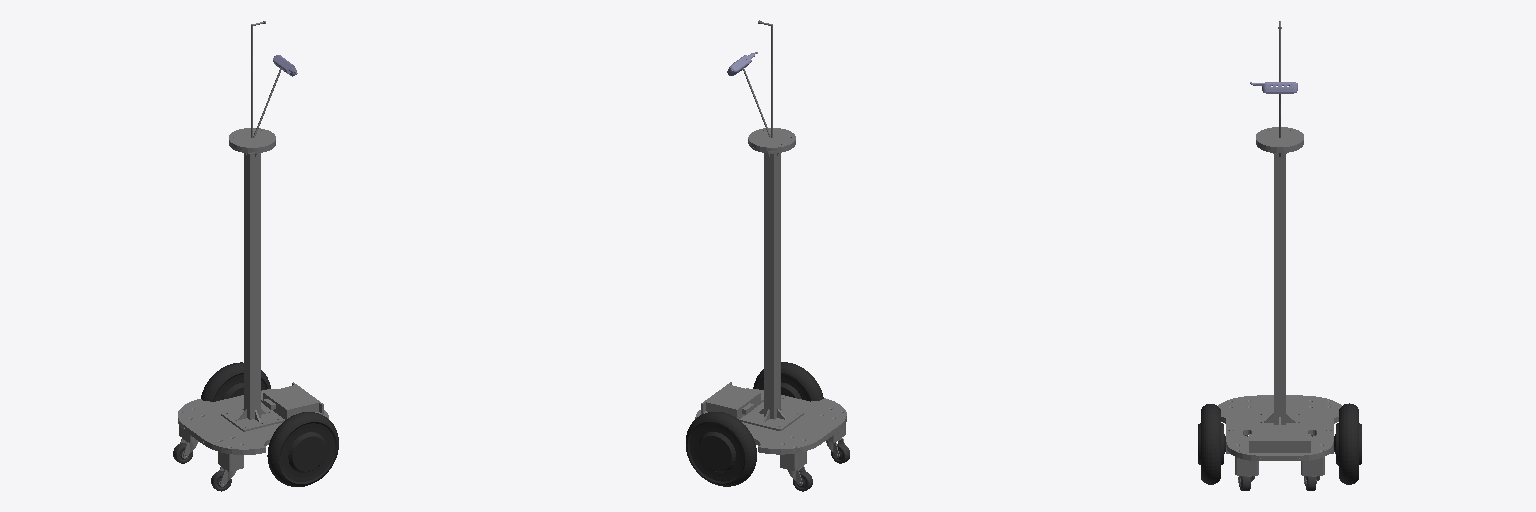
The robot description file, URDF, robot "nexa":
<?xml version="1.0" encoding="utf-8"?>
<!-- This URDF was automatically created by SolidWorks to URDF Exporter! Originally created by Stephen Brawner (brawner@gmail.com)
     Commit Version: 1.6.0-1-g15f4949  Build Version: 1.6.7594.29634
     For more information, please see http://wiki.ros.org/sw_urdf_exporter -->
<robot
  name="nexa">
  <link
    name="base_link">
    <inertial>
      <origin
        xyz="0.0233629429238116 4.22881594878133E-05 0.0485862192692521"
        rpy="0 0 0" />
      <mass
        value="2.67357451448379" />
      <inertia
        ixx="0.0838676214813811"
        ixy="-4.20361720258225E-06"
        ixz="0.00129491227389105"
        iyy="0.0952701211607136"
        iyz="1.6066275313901E-06"
        izz="0.0409475340600111" />
    </inertial>
    <visual>
      <origin
        xyz="0 0 0"
        rpy="0 0 0" />
      <geometry>
        <mesh
          filename="package://nexa/meshes/base_link.STL" />
      </geometry>
      <material
        name="">
        <color
          rgba="0.509803921568627 0.509803921568627 0.509803921568627 1" />
      </material>
    </visual>
    <collision>
      <origin
        xyz="0 0 0"
        rpy="0 0 0" />
      <geometry>
        <mesh
          filename="package://nexa/meshes/base_link.STL" />
      </geometry>
    </collision>
  </link>
  <link
    name="leftwheel_link">
    <inertial>
      <origin
        xyz="-1.74075753811564E-10 1.74083775172917E-10 0.000381565663131411"
        rpy="0 0 0" />
      <mass
        value="1.44920481477612" />
      <inertia
        ixx="0.00347079630181746"
        ixy="-5.8844939595754E-16"
        ixz="-1.29155431134988E-09"
        iyy="0.00347079630181747"
        iyz="1.29155395907396E-09"
        izz="0.00630183667634335" />
    </inertial>
    <visual>
      <origin
        xyz="0 0 0"
        rpy="0 0 0" />
      <geometry>
        <mesh
          filename="package://nexa/meshes/leftwheel_link.STL" />
      </geometry>
      <material
        name="">
        <color
          rgba="0.215686274509804 0.215686274509804 0.215686274509804 1" />
      </material>
    </visual>
    <collision>
      <origin
        xyz="0 0 0"
        rpy="0 0 0" />
      <geometry>
        <mesh
          filename="package://nexa/meshes/leftwheel_link.STL" />
      </geometry>
    </collision>
  </link>
  <joint
    name="leftwheel_joint"
    type="continuous">
    <origin
      xyz="0.0540389524650898 0.169779999524495 -0.0149989847207889"
      rpy="1.5707963267949 0 0" />
    <parent
      link="base_link" />
    <child
      link="leftwheel_link" />
    <axis
      xyz="0 0 0.999999999999792" />
  </joint>
  <link
    name="rightwheel_link">
    <inertial>
      <origin
        xyz="1.74075198700052E-10 -1.74083469861586E-10 -0.000381565663131717"
        rpy="0 0 0" />
      <mass
        value="1.44920481477613" />
      <inertia
        ixx="0.00347079630181749"
        ixy="-5.88843528628314E-16"
        ixz="-1.29155425553129E-09"
        iyy="0.00347079630181749"
        iyz="1.2915540535382E-09"
        izz="0.00630183667634338" />
    </inertial>
    <visual>
      <origin
        xyz="0 0 0"
        rpy="0 0 0" />
      <geometry>
        <mesh
          filename="package://nexa/meshes/rightwheel_link.STL" />
      </geometry>
      <material
        name="">
        <color
          rgba="0.215686274509804 0.215686274509804 0.215686274509804 1" />
      </material>
    </visual>
    <collision>
      <origin
        xyz="0 0 0"
        rpy="0 0 0" />
      <geometry>
        <mesh
          filename="package://nexa/meshes/rightwheel_link.STL" />
      </geometry>
    </collision>
  </link>
  <joint
    name="rightwheel_joint"
    type="continuous">
    <origin
      xyz="0.0540387975537798 -0.169780000237316 -0.0149988298094792"
      rpy="1.5707963267949 0 0" />
    <parent
      link="base_link" />
    <child
      link="rightwheel_link" />
    <axis
      xyz="0 0 0.999999999999792" />
  </joint>
  <link
    name="casterwheelmount_link">
    <inertial>
      <origin
        xyz="0.00187352191273216 0.0129405492524937 -0.0103000078506701"
        rpy="0 0 0" />
      <mass
        value="0.0102706017023182" />
      <inertia
        ixx="3.93968493623888E-06"
        ixy="-2.8232800941337E-07"
        ixz="5.63131676132563E-08"
        iyy="3.432191688351E-06"
        iyz="1.42222659679423E-06"
        izz="3.85767367428349E-06" />
    </inertial>
    <visual>
      <origin
        xyz="0 0 0"
        rpy="0 0 0" />
      <geometry>
        <mesh
          filename="package://nexa/meshes/casterwheelmount_link.STL" />
      </geometry>
      <material
        name="">
        <color
          rgba="0.509803921568627 0.509803921568627 0.509803921568627 1" />
      </material>
    </visual>
    <collision>
      <origin
        xyz="0 0 0"
        rpy="0 0 0" />
      <geometry>
        <mesh
          filename="package://nexa/meshes/casterwheelmount_link.STL" />
      </geometry>
    </collision>
  </link>
  <joint
    name="casterwheelmount_joint"
    type="continuous">
    <origin
      xyz="0.139639576281008 0.0791060227155972 -0.051842999999996"
      rpy="-1.5707963267949 0 -1.5707963267949" />
    <parent
      link="base_link" />
    <child
      link="casterwheelmount_link" />
    <axis
      xyz="0 -1 0" />
  </joint>
  <link
    name="casterwheel_link">
    <inertial>
      <origin
        xyz="1.33226762955019E-15 1.23512311489549E-15 -0.0112773964520611"
        rpy="0 0 0" />
      <mass
        value="0.0399331188999233" />
      <inertia
        ixx="7.77541411629872E-06"
        ixy="-1.01833774330127E-21"
        ixz="-2.72426971660664E-19"
        iyy="7.77541411629871E-06"
        iyz="4.13954478132233E-19"
        izz="1.27535117768465E-05" />
    </inertial>
    <visual>
      <origin
        xyz="0 0 0"
        rpy="0 0 0" />
      <geometry>
        <mesh
          filename="package://nexa/meshes/casterwheel_link.STL" />
      </geometry>
      <material
        name="">
        <color
          rgba="0.270588235294118 0.270588235294118 0.270588235294118 1" />
      </material>
    </visual>
    <collision>
      <origin
        xyz="0 0 0"
        rpy="0 0 0" />
      <geometry>
        <mesh
          filename="package://nexa/meshes/casterwheel_link.STL" />
      </geometry>
    </collision>
  </link>
  <joint
    name="casterwheel_joint"
    type="continuous">
    <origin
      xyz="0.0151109163570423 0.0349719999999999 -0.0235537261563978"
      rpy="0 -1.41616610057807 3.14159265358979" />
    <parent
      link="casterwheelmount_link" />
    <child
      link="casterwheel_link" />
    <axis
      xyz="-3.74938274523284E-05 0 -0.999999999297106" />
  </joint>
  <link
    name="casterwheelmount1_link">
    <inertial>
      <origin
        xyz="-0.0101545114856474 0.00254678088783966 0.0129405492213775"
        rpy="0 0 0" />
      <mass
        value="0.0102706060663648" />
      <inertia
        ixx="3.86541891392595E-06"
        ixy="6.12075400190165E-08"
        ixz="1.40058301400974E-06"
        iyy="3.93194090481684E-06"
        iyz="-3.75240720638479E-07"
        izz="3.43219229056267E-06" />
    </inertial>
    <visual>
      <origin
        xyz="0 0 0"
        rpy="0 0 0" />
      <geometry>
        <mesh
          filename="package://nexa/meshes/casterwheelmount1_link.STL" />
      </geometry>
      <material
        name="">
        <color
          rgba="0.509803921568627 0.509803921568627 0.509803921568627 1" />
      </material>
    </visual>
    <collision>
      <origin
        xyz="0 0 0"
        rpy="0 0 0" />
      <geometry>
        <mesh
          filename="package://nexa/meshes/casterwheelmount1_link.STL" />
      </geometry>
    </collision>
  </link>
  <joint
    name="casterwheelmount1_joint"
    type="continuous">
    <origin
      xyz="0.139639576281007 -0.0808939772844029 -0.051842999999996"
      rpy="-3.14159265358979 0 0" />
    <parent
      link="base_link" />
    <child
      link="casterwheelmount1_link" />
    <axis
      xyz="0 0 -1" />
  </joint>
  <link
    name="casterwheel1_link">
    <inertial>
      <origin
        xyz="-0.00246586444429442 -1.09634523681734E-15 -0.0110045074073896"
        rpy="0 0 0" />
      <mass
        value="0.0399331188999234" />
      <inertia
        ixx="8.0134180379355E-06"
        ixy="-6.57097464824199E-20"
        ixz="1.06214918857322E-06"
        iyy="7.77541411629872E-06"
        iyz="-2.92153038680237E-19"
        izz="1.25155078552097E-05" />
    </inertial>
    <visual>
      <origin
        xyz="0 0 0"
        rpy="0 0 0" />
      <geometry>
        <mesh
          filename="package://nexa/meshes/casterwheel1_link.STL" />
      </geometry>
      <material
        name="">
        <color
          rgba="0.270588235294118 0.270588235294118 0.270588235294118 1" />
      </material>
    </visual>
    <collision>
      <origin
        xyz="0 0 0"
        rpy="0 0 0" />
      <geometry>
        <mesh
          filename="package://nexa/meshes/casterwheel1_link.STL" />
      </geometry>
    </collision>
  </link>
  <joint
    name="casterwheel1_joint"
    type="continuous">
    <origin
      xyz="-0.0225090715658005 0.0166270714873566 0.0349720000000002"
      rpy="-1.5707963267949 0 0" />
    <parent
      link="casterwheelmount1_link" />
    <child
      link="casterwheel1_link" />
    <axis
      xyz="0.218655472012234 0 0.975802123670115" />
  </joint>
  <link
    name="casterwheelmount2_link">
    <inertial>
      <origin
        xyz="-0.0104656615937944 0.000264812566949602 0.0129405496800931"
        rpy="0 0 0" />
      <mass
        value="0.0102706060928633" />
      <inertia
        ixx="3.84248026188763E-06"
        ixy="4.11615522049579E-08"
        ixz="1.44874042580228E-06"
        iyy="3.95487969647682E-06"
        iyz="-5.99155602306657E-08"
        izz="3.43219234854318E-06" />
    </inertial>
    <visual>
      <origin
        xyz="0 0 0"
        rpy="0 0 0" />
      <geometry>
        <mesh
          filename="package://nexa/meshes/casterwheelmount2_link.STL" />
      </geometry>
      <material
        name="">
        <color
          rgba="0.509803921568627 0.509803921568627 0.509803921568627 1" />
      </material>
    </visual>
    <collision>
      <origin
        xyz="0 0 0"
        rpy="0 0 0" />
      <geometry>
        <mesh
          filename="package://nexa/meshes/casterwheelmount2_link.STL" />
      </geometry>
    </collision>
  </link>
  <joint
    name="casterwheelmount2_joint"
    type="continuous">
    <origin
      xyz="-0.115360423718992 0.0971060227155969 -0.052842999999998"
      rpy="3.14159265358979 0 0" />
    <parent
      link="base_link" />
    <child
      link="casterwheelmount2_link" />
    <axis
      xyz="0 0 -1" />
  </joint>
  <link
    name="casterwheel2_link">
    <inertial>
      <origin
        xyz="0 1.11022302462516E-15 -0.0112773964520597"
        rpy="0 0 0" />
      <mass
        value="0.0399331188999233" />
      <inertia
        ixx="7.77541411629873E-06"
        ixy="-2.72948711563285E-22"
        ixz="-3.84041109193569E-19"
        iyy="7.77541411629872E-06"
        iyz="3.01712944588664E-19"
        izz="1.27535117768465E-05" />
    </inertial>
    <visual>
      <origin
        xyz="0 0 0"
        rpy="0 0 0" />
      <geometry>
        <mesh
          filename="package://nexa/meshes/casterwheel2_link.STL" />
      </geometry>
      <material
        name="">
        <color
          rgba="0.270588235294118 0.270588235294118 0.270588235294118 1" />
      </material>
    </visual>
    <collision>
      <origin
        xyz="0 0 0"
        rpy="0 0 0" />
      <geometry>
        <mesh
          filename="package://nexa/meshes/casterwheel2_link.STL" />
      </geometry>
    </collision>
  </link>
  <joint
    name="casterwheel2_joint"
    type="continuous">
    <origin
      xyz="-0.0256000000000002 0.0113030000000002 0.0349719999999999"
      rpy="-1.5707963267949 0 0" />
    <parent
      link="casterwheelmount2_link" />
    <child
      link="casterwheel2_link" />
    <axis
      xyz="0 0 1" />
  </joint>
  <link
    name="casterwheelmount3_link">
    <inertial>
      <origin
        xyz="-0.010340494088649 -0.00163533682142492 0.0129405509142809"
        rpy="0 0 0" />
      <mass
        value="0.0102706136475918" />
      <inertia
        ixx="3.83150337395354E-06"
        ixy="1.84372120086148E-08"
        ixz="1.43562765937134E-06"
        iyy="3.96585848591721E-06"
        iyz="2.03502642139208E-07"
        izz="3.43219311730015E-06" />
    </inertial>
    <visual>
      <origin
        xyz="0 0 0"
        rpy="0 0 0" />
      <geometry>
        <mesh
          filename="package://nexa/meshes/casterwheelmount3_link.STL" />
      </geometry>
      <material
        name="">
        <color
          rgba="0.509803921568627 0.509803921568627 0.509803921568627 1" />
      </material>
    </visual>
    <collision>
      <origin
        xyz="0 0 0"
        rpy="0 0 0" />
      <geometry>
        <mesh
          filename="package://nexa/meshes/casterwheelmount3_link.STL" />
      </geometry>
    </collision>
  </link>
  <joint
    name="casterwheelmount3_link"
    type="continuous">
    <origin
      xyz="-0.115360423718995 -0.0988939772844037 -0.052842999999996"
      rpy="3.14159265358979 0 0" />
    <parent
      link="base_link" />
    <child
      link="casterwheelmount3_link" />
    <axis
      xyz="0 0 -1" />
  </joint>
  <link
    name="casterwheel3_link">
    <inertial>
      <origin
        xyz="0.00204280486025432 7.49400541621981E-16 -0.0110908349117569"
        rpy="0 0 0" />
      <mass
        value="0.0399331188999233" />
      <inertia
        ixx="7.93875672263076E-06"
        ixy="1.9998661676797E-20"
        ixz="-8.8682277790206E-07"
        iyy="7.77541411629873E-06"
        iyz="-7.49859329312308E-20"
        izz="1.25901691705145E-05" />
    </inertial>
    <visual>
      <origin
        xyz="0 0 0"
        rpy="0 0 0" />
      <geometry>
        <mesh
          filename="package://nexa/meshes/casterwheel3_link.STL" />
      </geometry>
      <material
        name="">
        <color
          rgba="0.270588235294118 0.270588235294118 0.270588235294118 1" />
      </material>
    </visual>
    <collision>
      <origin
        xyz="0 0 0"
        rpy="0 0 0" />
      <geometry>
        <mesh
          filename="package://nexa/meshes/casterwheel3_link.STL" />
      </geometry>
    </collision>
  </link>
  <joint
    name="casterwheel3_joint"
    type="continuous">
    <origin
      xyz="-0.0272239429004355 0.0064787917047735 0.0349719999999999"
      rpy="-1.5707963267949 0 0" />
    <parent
      link="casterwheelmount3_link" />
    <child
      link="casterwheel3_link" />
    <axis
      xyz="-0.18114153110955 0 0.983457038058749" />
  </joint>
  <link
    name="camer_Link">
    <inertial>
      <origin
        xyz="0.0014858590321436 0.0183400588332211 -7.88564831766259E-08"
        rpy="0 0 0" />
      <mass
        value="0.123421651539353" />
      <inertia
        ixx="0.000429899634243806"
        ixy="-2.33350789116604E-05"
        ixz="5.60927268320891E-11"
        iyy="0.000212016762319961"
        iyz="1.68959859120517E-09"
        izz="0.000438998679665635" />
    </inertial>
    <visual>
      <origin
        xyz="0 0 0"
        rpy="0 0 0" />
      <geometry>
        <mesh
          filename="package://nexa/meshes/camer_Link.STL" />
      </geometry>
      <material
        name="">
        <color
          rgba="0.509803921568627 0.509803921568627 0.509803921568627 1" />
      </material>
    </visual>
    <collision>
      <origin
        xyz="0 0 0"
        rpy="0 0 0" />
      <geometry>
        <mesh
          filename="package://nexa/meshes/camer_Link.STL" />
      </geometry>
    </collision>
  </link>
  <joint
    name="camer_joint"
    type="fixed">
    <origin
      xyz="0.00431397405279732 0 0.783119999523163"
      rpy="1.5707963267949 0 0" />
    <parent
      link="base_link" />
    <child
      link="camer_Link" />
    <axis
      xyz="0 0 0" />
  </joint>
  <link
    name="realsense_Link">
    <inertial>
      <origin
        xyz="0.0102742584795974 0.00711896653540789 0.000871321821130366"
        rpy="0 0 0" />
      <mass
        value="0.0332748943180587" />
      <inertia
        ixx="2.57397368671904E-05"
        ixy="1.19148398558562E-08"
        ixz="2.83984493526265E-07"
        iyy="2.57224986374103E-05"
        iyz="-3.83724140917947E-07"
        izz="3.2006669857039E-06" />
    </inertial>
    <visual>
      <origin
        xyz="0 0 0"
        rpy="0 0 0" />
      <geometry>
        <mesh
          filename="package://nexa/meshes/realsense_Link.STL" />
      </geometry>
      <material
        name="">
        <color
          rgba="0.56078431372549 0.56078431372549 0.686274509803922 1" />
      </material>
    </visual>
    <collision>
      <origin
        xyz="0 0 0"
        rpy="0 0 0" />
      <geometry>
        <mesh
          filename="package://nexa/meshes/realsense_Link.STL" />
      </geometry>
    </collision>
  </link>
  <joint
    name="realsense_joint"
    type="fixed">
    <origin
      xyz="0.083403701772902 0.182836639605286 0"
      rpy="0 0 0" />
    <parent
      link="camer_Link" />
    <child
      link="realsense_Link" />
    <axis
      xyz="0 0 0" />
  </joint>
  <link
    name="cameratop_Link">
    <inertial>
      <origin
        xyz="-0.00501711981331032 -1.07127451966994 5.50848912026225E-05"
        rpy="0 0 0" />
      <mass
        value="5.9294953875902" />
      <inertia
        ixx="0.288388098161001"
        ixy="0.00413930161226115"
        ixz="-6.07274589378271E-05"
        iyy="0.138230832699961"
        iyz="2.09008782504397E-05"
        izz="0.226009248166915" />
    </inertial>
    <visual>
      <origin
        xyz="0 0 0"
        rpy="0 0 0" />
      <geometry>
        <mesh
          filename="package://nexa/meshes/cameratop_Link.STL" />
      </geometry>
      <material
        name="">
        <color
          rgba="1 1 1 1" />
      </material>
    </visual>
    <collision>
      <origin
        xyz="0 0 0"
        rpy="0 0 0" />
      <geometry>
        <mesh
          filename="package://nexa/meshes/cameratop_Link.STL" />
      </geometry>
    </collision>
  </link>
  <joint
    name="cameratop_joint"
    type="fixed">
    <origin
      xyz="0.0379819969671267 0.322068596376853 0"
      rpy="0 0 0" />
    <parent
      link="camer_Link" />
    <child
      link="cameratop_Link" />
    <axis
      xyz="0 0 0" />
  </joint>
</robot>

--- Render facts (derived) ---
Views: 3 orthographic renders of the robot side by side, from view 1: azimuth 30°, elevation 25°; view 2: azimuth 150°, elevation 25°; view 3: azimuth 270°, elevation 25°.
Robot: nexa — 14 links, 13 joints (10 continuous, 3 fixed); root link base_link; default pose: all joints at 0.
Links seen in each view (by area): view 1: base_link, rightwheel_link, leftwheel_link, camer_Link; view 2: base_link, leftwheel_link, rightwheel_link, camer_Link; view 3: base_link, leftwheel_link, rightwheel_link, camer_Link.
Boxes of the visible links, <box> form: base_link: <box>178,144,328,471</box>; rightwheel_link: <box>267,412,338,486</box>; leftwheel_link: <box>201,362,270,401</box>; camer_Link: <box>229,21,281,151</box>; base_link: <box>695,142,846,470</box>; leftwheel_link: <box>686,412,756,486</box>; rightwheel_link: <box>753,362,823,401</box>; camer_Link: <box>742,20,795,150</box>; base_link: <box>1218,144,1341,475</box>; leftwheel_link: <box>1334,403,1361,484</box>; rightwheel_link: <box>1198,404,1225,484</box>; camer_Link: <box>1256,21,1303,150</box>.
Bounding box of the posed robot: 0.3514 × 0.4018 × 1.22 m (x, y, z).
Meshes: 14 distinct files referenced, 13 mesh visuals loaded (13 binary STL); not drawn: 1 (file found but could not be loaded).
